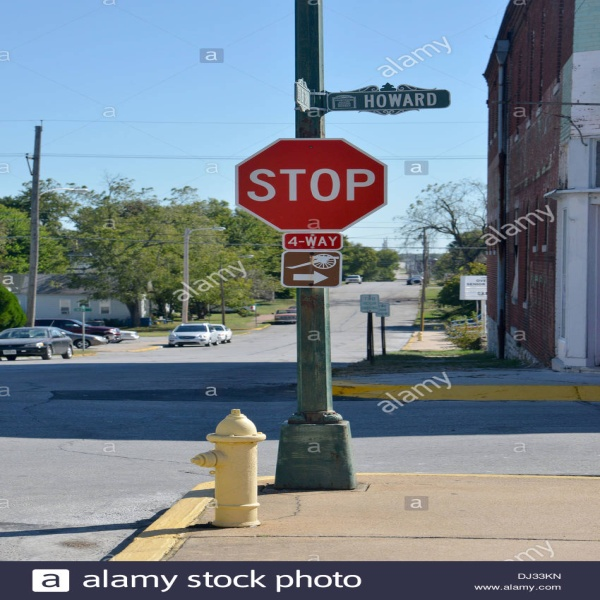stop: (228, 132, 390, 243)
